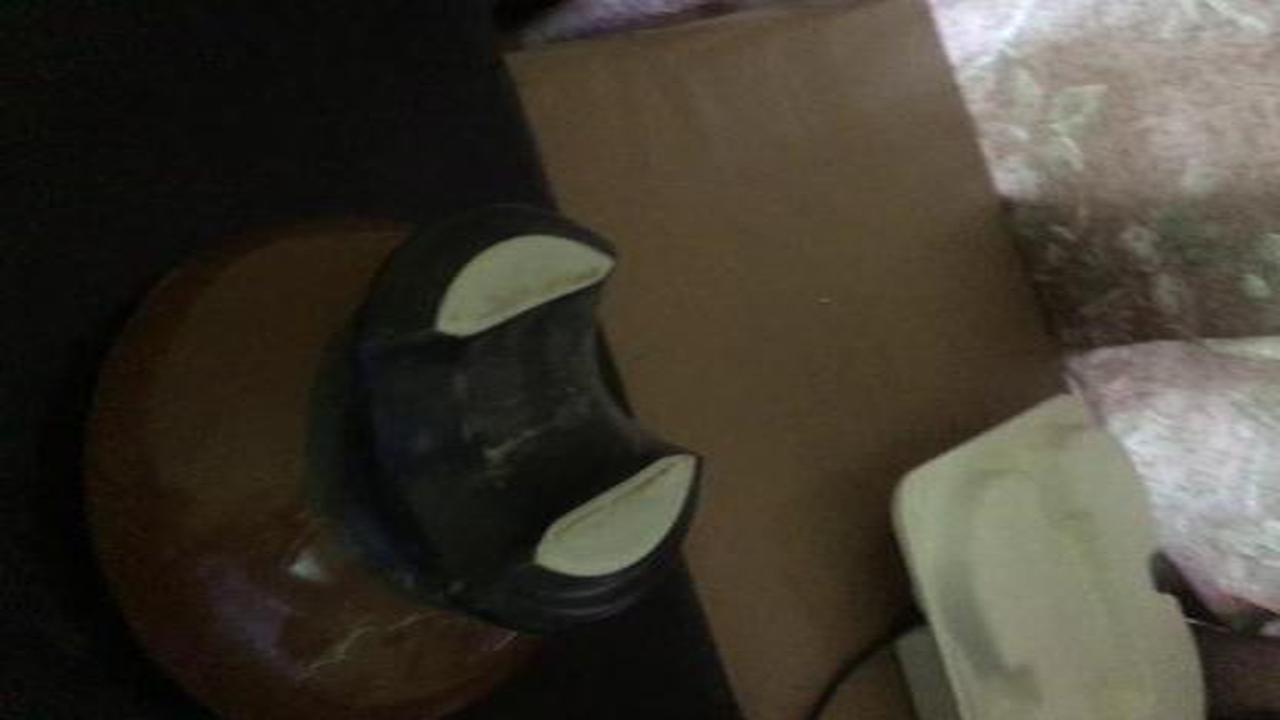insulator_pin: (56, 189, 721, 720)
